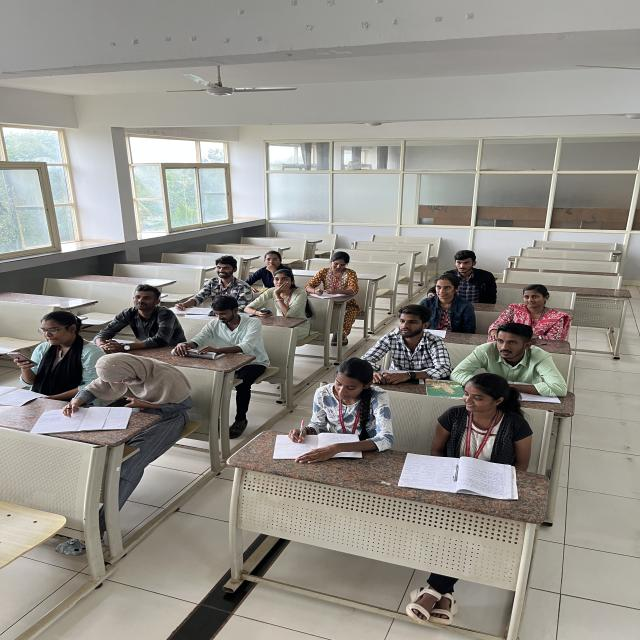Reading: (170, 292, 260, 360), (305, 248, 356, 300)
Using Phone: (7, 308, 93, 392), (84, 352, 194, 414), (247, 268, 307, 318)
Writing: (281, 359, 375, 453), (369, 306, 425, 385), (163, 256, 240, 312)
